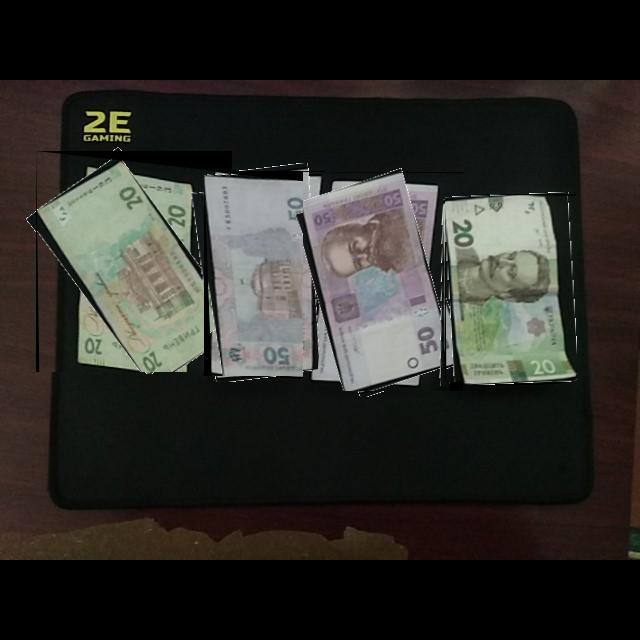20uah: (37, 160, 233, 373), (446, 196, 577, 383)
50uah: (303, 173, 455, 392), (204, 176, 325, 377)
